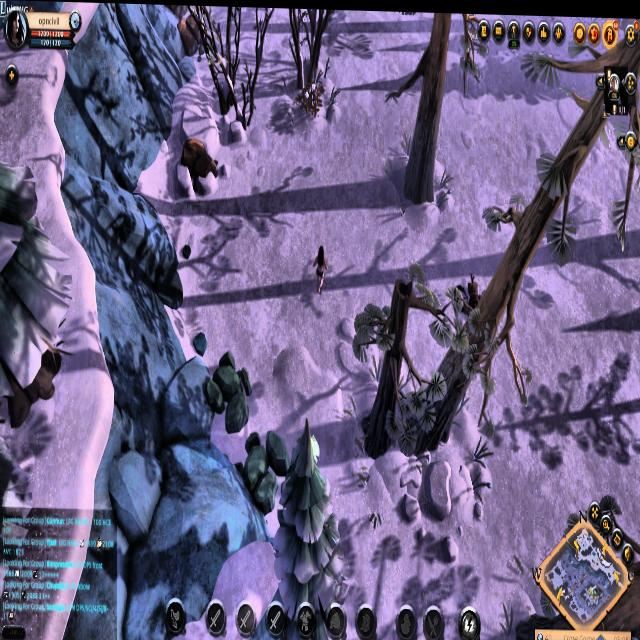cotton: (296, 74, 325, 121)
limestone: (178, 130, 218, 197), (177, 8, 210, 58)
sandstone: (236, 419, 286, 508), (206, 350, 254, 434)
